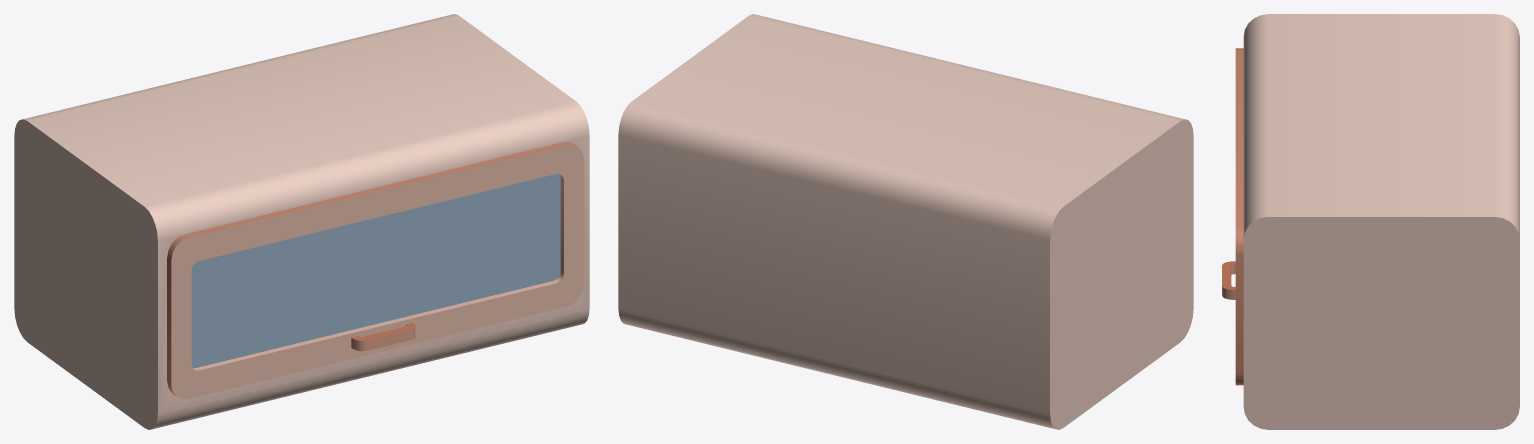
The model's file is Cupboard F.fbx.
3 views of the same model, side by side, from view 1: azimuth 30°, elevation 25°; view 2: azimuth 150°, elevation 25°; view 3: azimuth 270°, elevation 25° (orthographic). The views are drawn at different scales.
Visible parts, largest first — view 1: Cupboard H, Cupboard.010, Cupboard.018; view 2: Cupboard H; view 3: Cupboard H, Cupboard.018.
Boxes of the visible parts, bbox=[...] form: Cupboard H: bbox=[14, 14, 589, 429]; Cupboard.010: bbox=[191, 173, 560, 368]; Cupboard.018: bbox=[167, 142, 584, 399]; Cupboard H: bbox=[618, 14, 1193, 429]; Cupboard H: bbox=[1243, 14, 1519, 429]; Cupboard.018: bbox=[1222, 48, 1243, 385].
Bounding box in the file's own units: 2.87 × 1.4 × 1.78.
